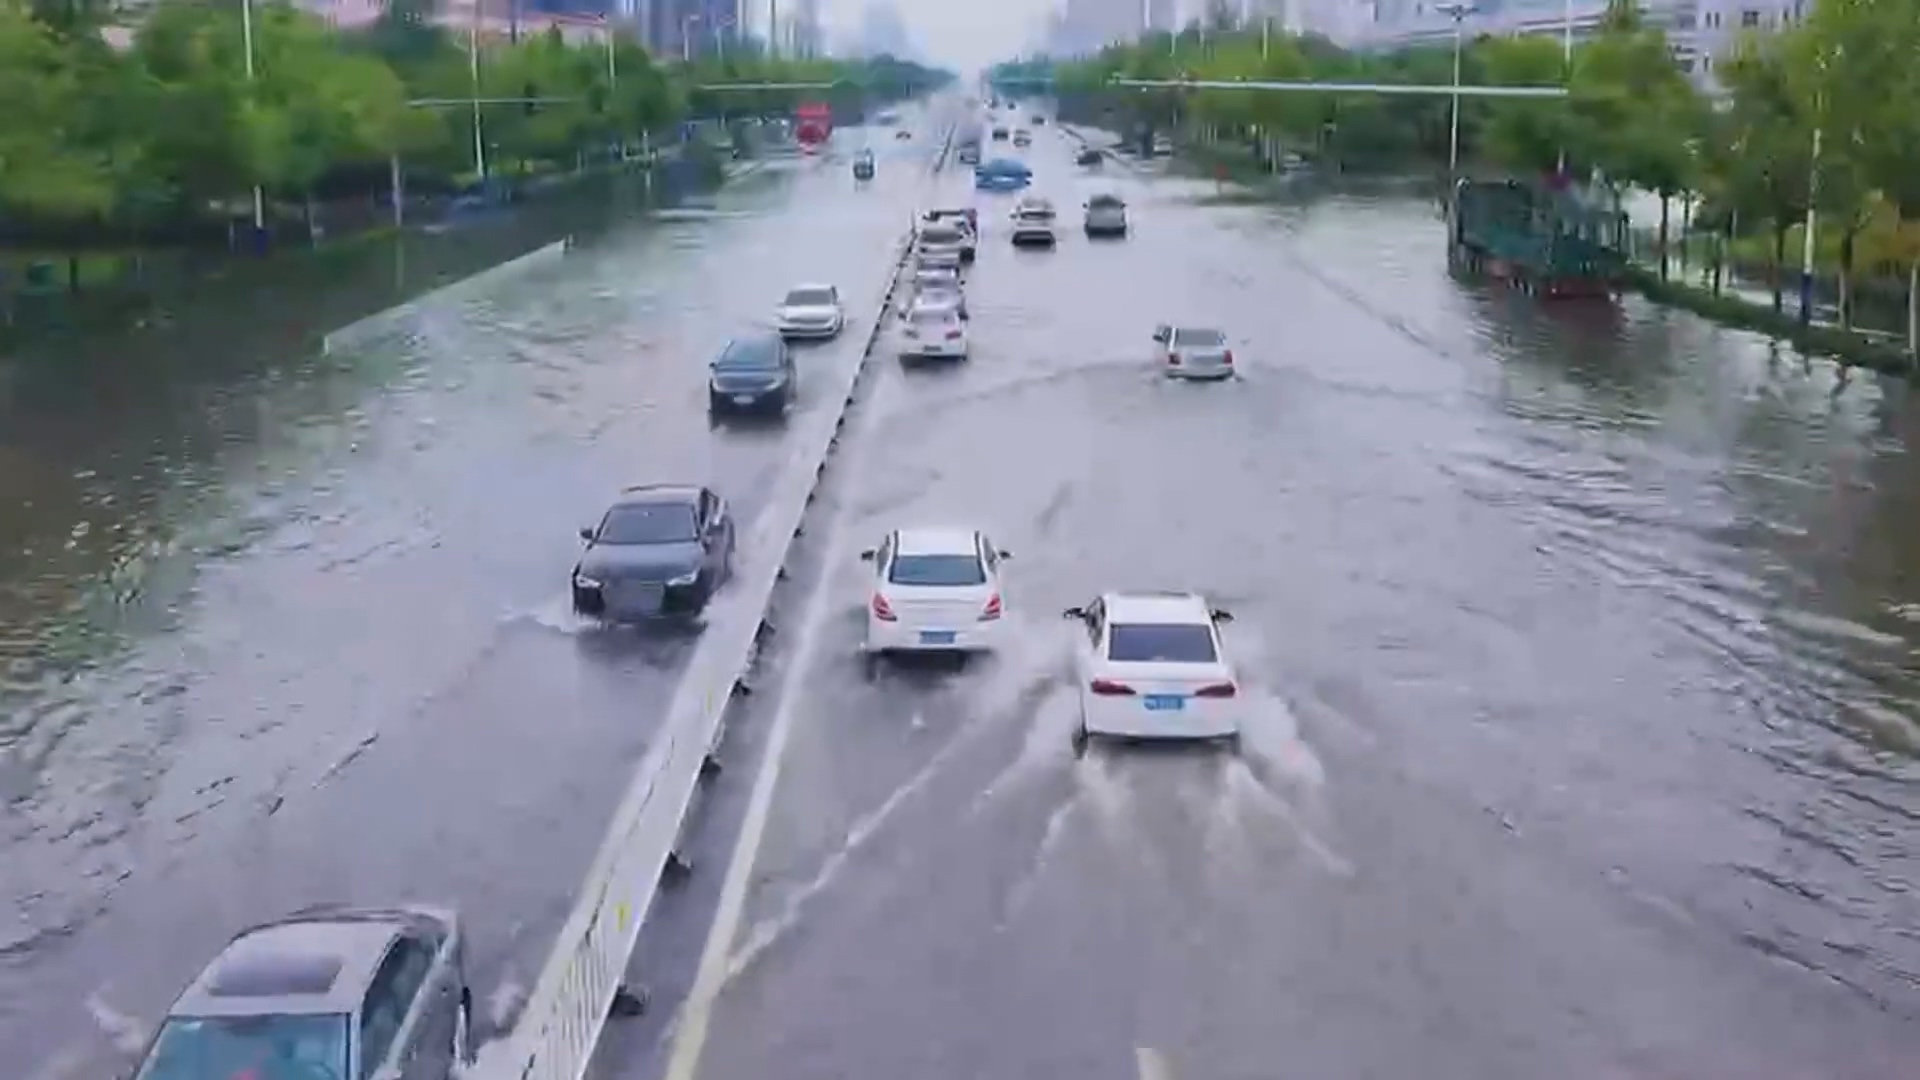puddle: (1, 297, 1920, 1080)
